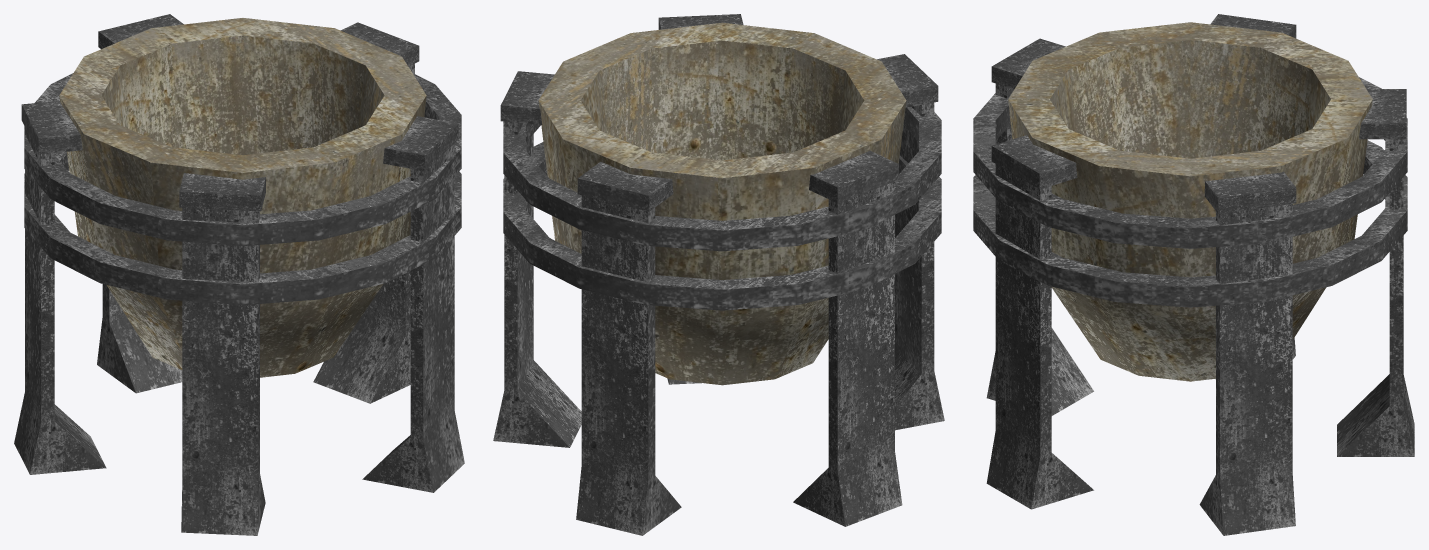
Rendered from BigTorch.fbx.
3 renders of one model, left to right at view 1: azimuth 30°, elevation 25°; view 2: azimuth 150°, elevation 25°; view 3: azimuth 270°, elevation 25°, orthographic.
Parts seen in each view (by area): view 1: legs, jar; view 2: legs, jar; view 3: legs, jar.
Boxes of the visible parts, <box> form: legs: <box>14,14,464,535</box>; jar: <box>59,18,426,377</box>; legs: <box>493,14,944,535</box>; jar: <box>538,22,906,385</box>; legs: <box>973,14,1414,535</box>; jar: <box>1008,22,1372,381</box>.
Size of the model in its own units: 88.75 by 74.3 by 87.06.
